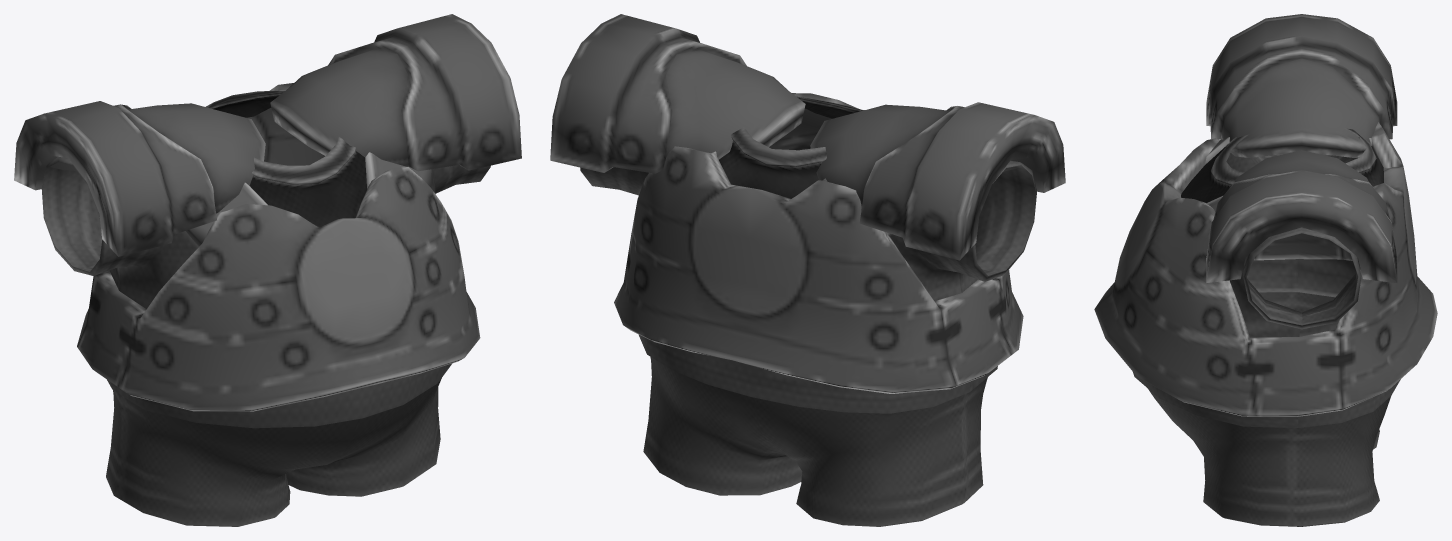
The picture shows the model from 3 angles, left to right: view 1: azimuth 30°, elevation 25°; view 2: azimuth 150°, elevation 25°; view 3: azimuth 270°, elevation 25°; orthographic projection. The views are drawn at different scales.
Parts seen in each view (by area): view 1: model_0_submesh_0, model_0_submesh_1; view 2: model_0_submesh_0, model_0_submesh_1; view 3: model_0_submesh_0, model_0_submesh_1.
Part boxes in pixels (left/top/right/bottom): model_0_submesh_0: left=14, top=14, right=521, bottom=411; model_0_submesh_1: left=41, top=156, right=490, bottom=526; model_0_submesh_0: left=550, top=14, right=1065, bottom=393; model_0_submesh_1: left=580, top=160, right=1036, bottom=526; model_0_submesh_0: left=1094, top=14, right=1437, bottom=416; model_0_submesh_1: left=1133, top=153, right=1400, bottom=526.
Size of the model in its own units: 0.4865 by 0.4581 by 0.3874.
